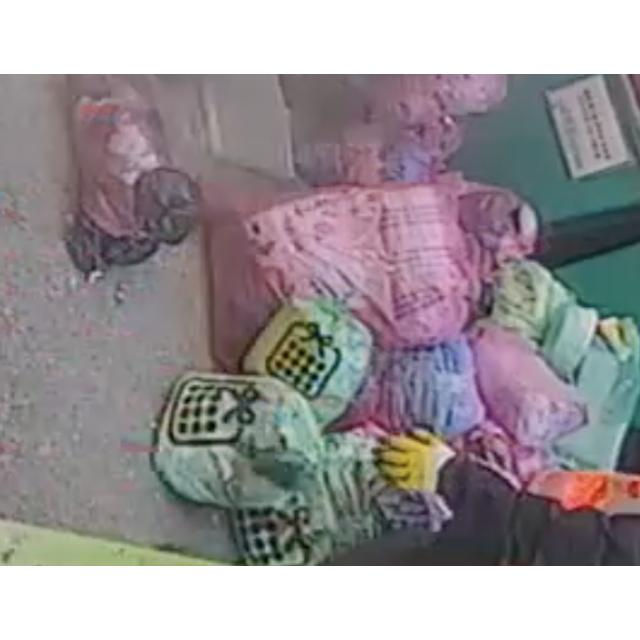general_trashbag: (154, 374, 324, 509), (230, 433, 382, 566), (244, 300, 372, 426)
other_trashbag: (245, 182, 535, 348), (68, 98, 195, 273), (471, 320, 586, 448), (402, 338, 485, 435)
